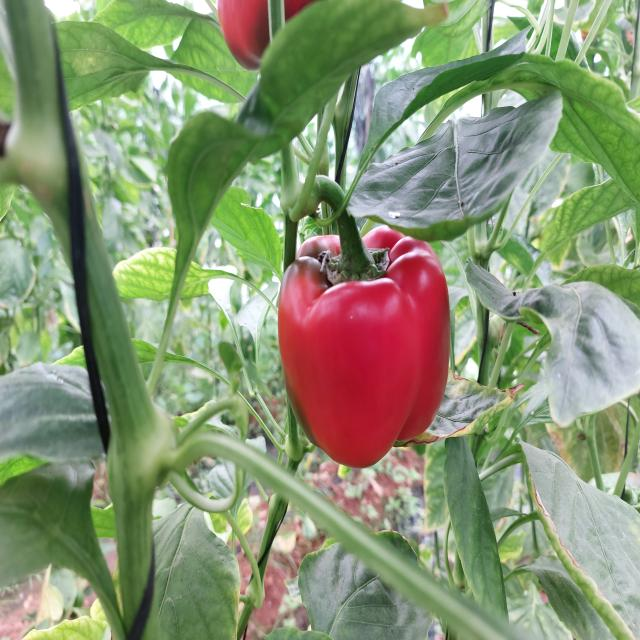Red-Ready-to-Harvest: (269, 220, 467, 480)
